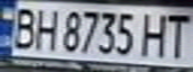3: (96, 8, 121, 55)
5: (115, 9, 142, 57)
7: (78, 8, 100, 55)
8: (57, 7, 84, 53)
B: (6, 4, 39, 51)
H: (139, 9, 175, 58), (30, 4, 60, 52)
T: (160, 10, 193, 60)
